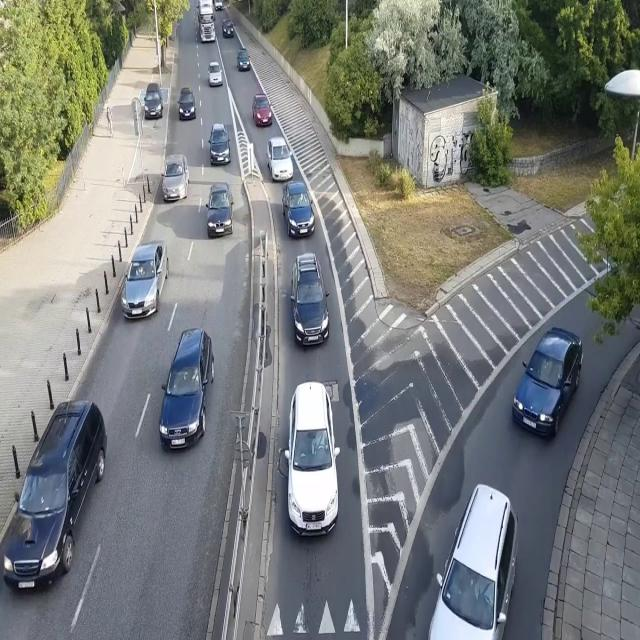car: (421, 479, 520, 640), (28, 400, 108, 594), (282, 383, 341, 540), (511, 324, 585, 443), (159, 329, 215, 453), (290, 252, 331, 346), (120, 240, 169, 318), (282, 181, 316, 239), (205, 180, 234, 237), (162, 153, 190, 204), (266, 136, 294, 181), (208, 120, 232, 168), (143, 82, 163, 121), (251, 93, 273, 128), (176, 86, 196, 122), (208, 60, 224, 87), (237, 48, 251, 71), (220, 19, 234, 39), (214, 0, 224, 11)
truck: (197, 0, 216, 45)
